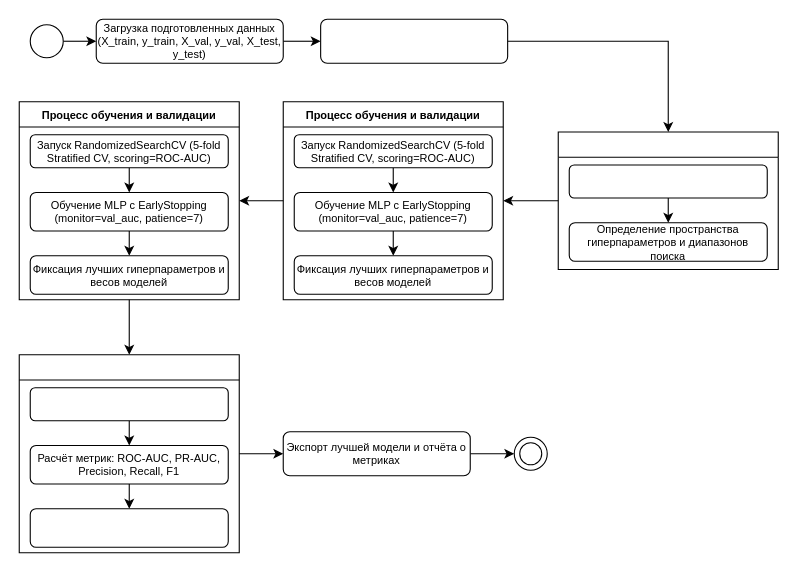
The diagram is 798 pixels wide and 572 high, and some of its shapes have lost their labels. The shapes that lost their labels are listed below. From the top down, each one's box as (x1, y1, x2, y2) in pixels, then its label:
(320, 18, 508, 63): Инициализация моделей-кандидатов (LogReg, RandomForest, XGBoost, MLP)
(568, 164, 767, 198): Расчёт весов классов (class_weight / scale_pos_weight)
(557, 131, 778, 270): Обработка дисбаланса и настройка
(29, 387, 228, 421): Прогнозирование на отложенной Test-выборке (X_test, y_test)
(18, 354, 239, 553): Выбор и финальная оценка
(29, 508, 228, 547): Сравнение моделей и выбор оптимальной конфигурации
